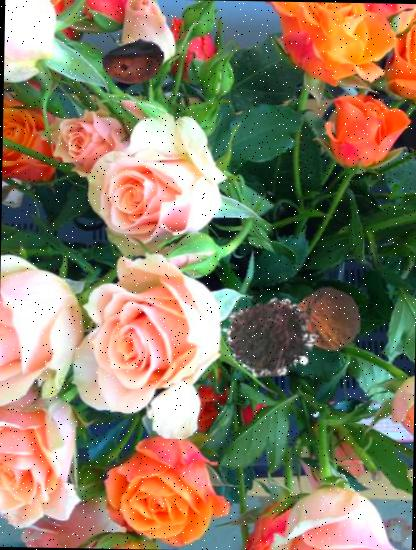Chestnut: (100, 29, 164, 93)
Rambutan: (220, 285, 324, 389)
Walnut: (294, 283, 363, 352)
